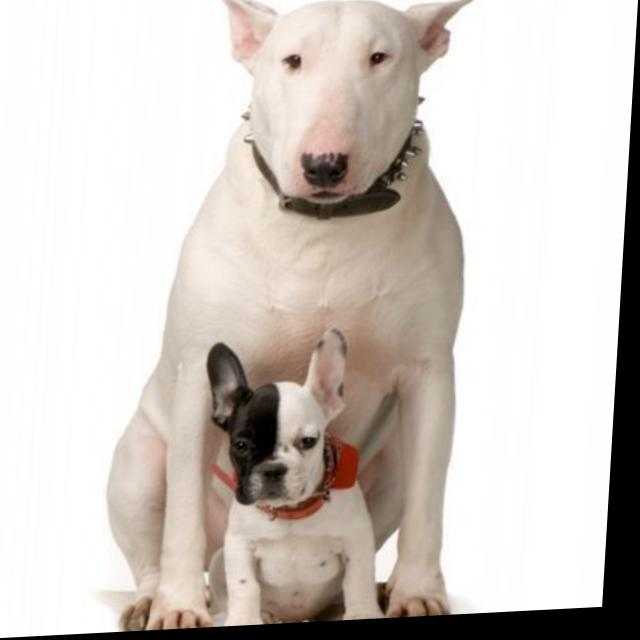bullterrier: (104, 1, 494, 636)
other_dog_breed: (201, 328, 413, 632)
